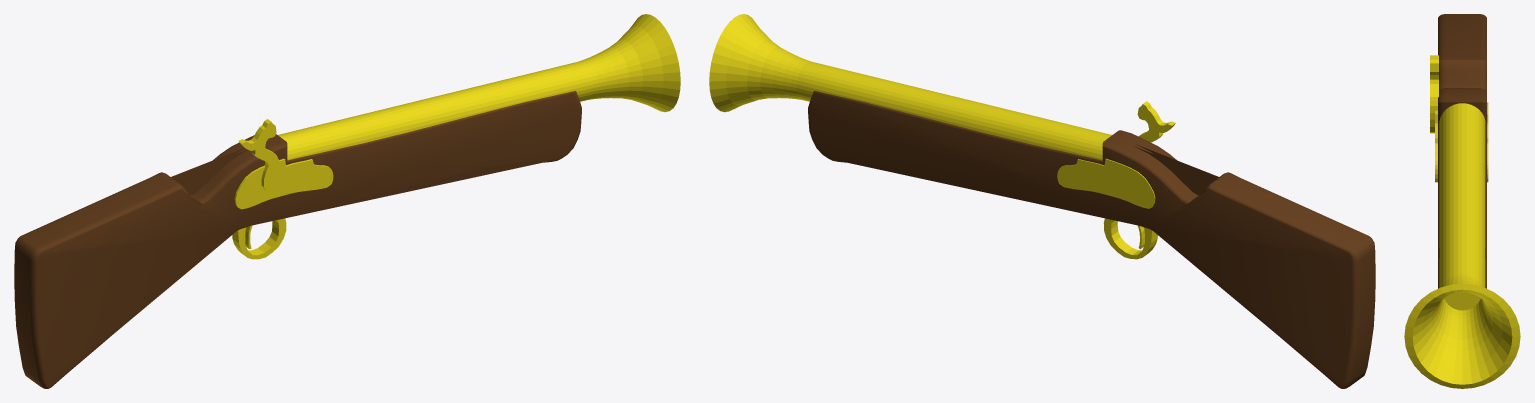
File: Blunderbussy.fbx
The picture shows the model from 3 angles, left to right: view 1: azimuth 30°, elevation 25°; view 2: azimuth 150°, elevation 25°; view 3: azimuth 270°, elevation 25°; orthographic projection. The views are drawn at different scales.
Visible parts, largest first — view 1: Stock, Barrel, Plane.002, Plane.003, Trigger; view 2: Stock, Barrel, Plane.002, Trigger, Plane.003; view 3: Barrel, Stock, Plane.003, Cylinder, Plane.002.
Boxes of the visible parts, box(x1,y1,x2,y2) form: Stock: box(14, 91, 581, 388); Barrel: box(278, 14, 680, 160); Plane.002: box(234, 158, 333, 209); Plane.003: box(238, 119, 279, 190); Trigger: box(232, 218, 286, 259); Stock: box(808, 91, 1375, 388); Barrel: box(709, 14, 1111, 160); Plane.002: box(1057, 158, 1155, 208); Trigger: box(1103, 218, 1157, 259); Plane.003: box(1137, 101, 1175, 142); Barrel: box(1404, 103, 1520, 388); Stock: box(1438, 14, 1486, 288); Plane.003: box(1430, 55, 1438, 133); Cylinder: box(1444, 292, 1480, 310); Plane.002: box(1435, 102, 1488, 182).
Size of the model in its own units: 56.25 by 18.47 by 7.72.
